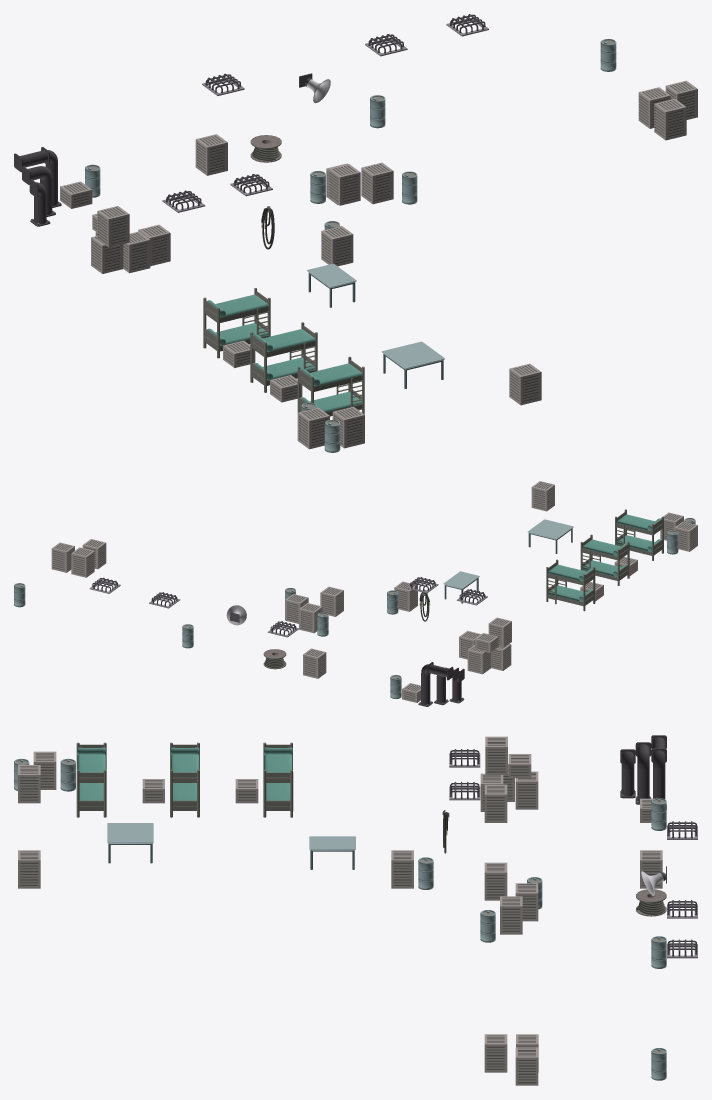
The picture shows the model from 3 angles, top to bottom: view 1: azimuth 30°, elevation 25°; view 2: azimuth 150°, elevation 25°; view 3: azimuth 270°, elevation 25°; orthographic projection. The views are drawn at different scales.
Visible parts, largest first — view 1: colored; view 2: colored; view 3: colored.
Part boxes in pixels (x1,y1,x2,y2): colored: (14,14,697,452); colored: (14,481,697,706); colored: (14,735,697,1085).
Bounding box in the file's own units: 46.53 × 5.01 × 43.99.
